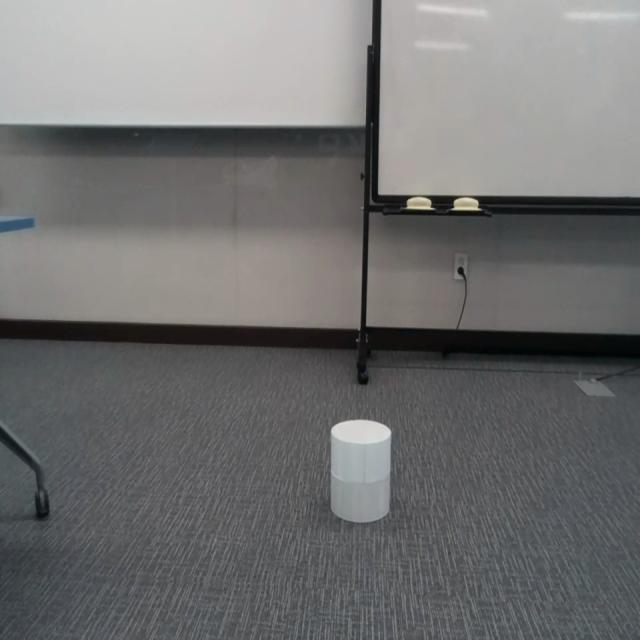cylinder: (330, 418, 392, 524)
